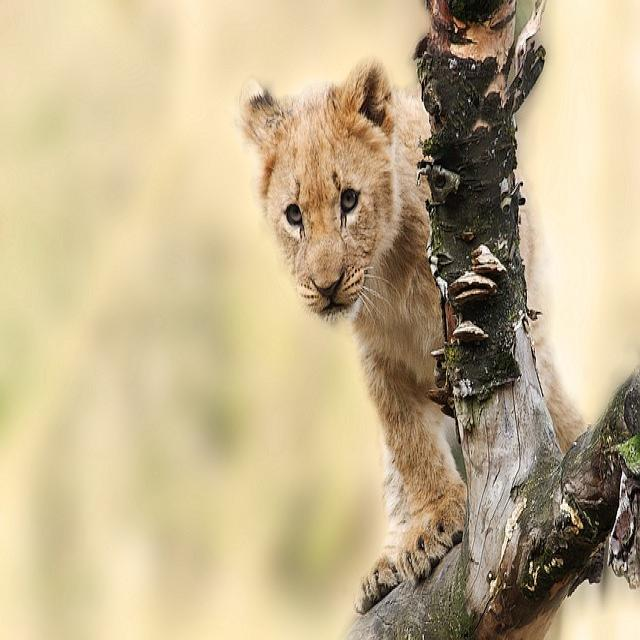Carnivorous: (231, 60, 468, 615)
